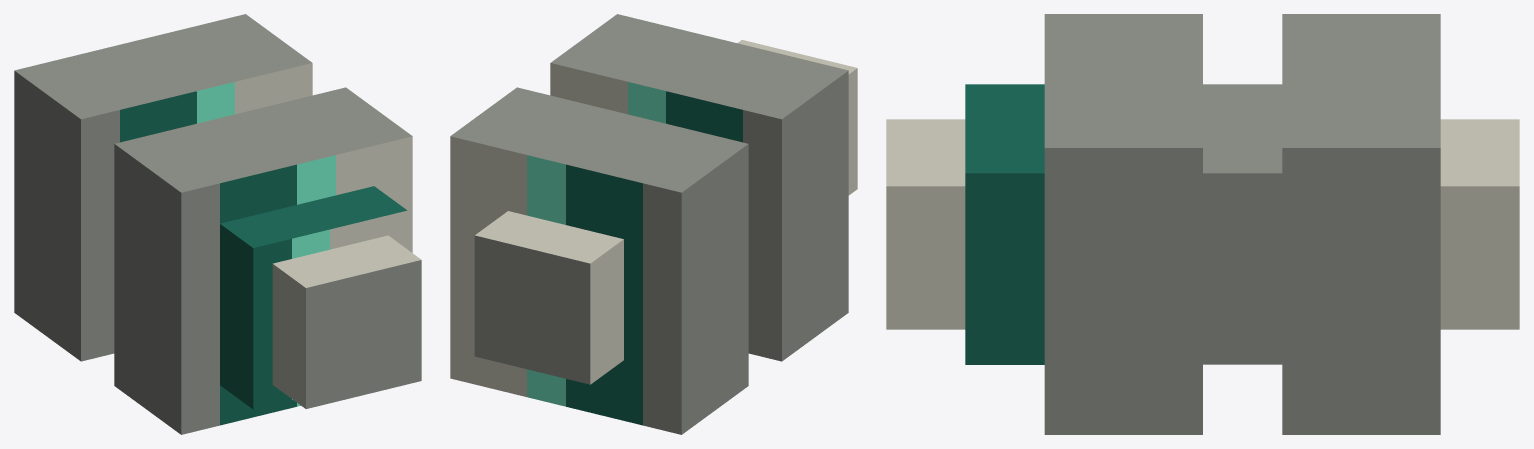
File: terminal_lv.obj
3 views of the same model, side by side, from view 1: azimuth 30°, elevation 25°; view 2: azimuth 150°, elevation 25°; view 3: azimuth 270°, elevation 25° (orthographic). The views are drawn at different scales.
Visible parts, largest first — view 1: connector_lv; view 2: connector_lv; view 3: connector_lv.
Part boxes in pixels (box(x1,y1,x2,y2)): connector_lv: box(14, 14, 421, 434); connector_lv: box(450, 14, 857, 434); connector_lv: box(886, 14, 1519, 434).
Bounding box in the file's own units: 200 × 200 × 400.
